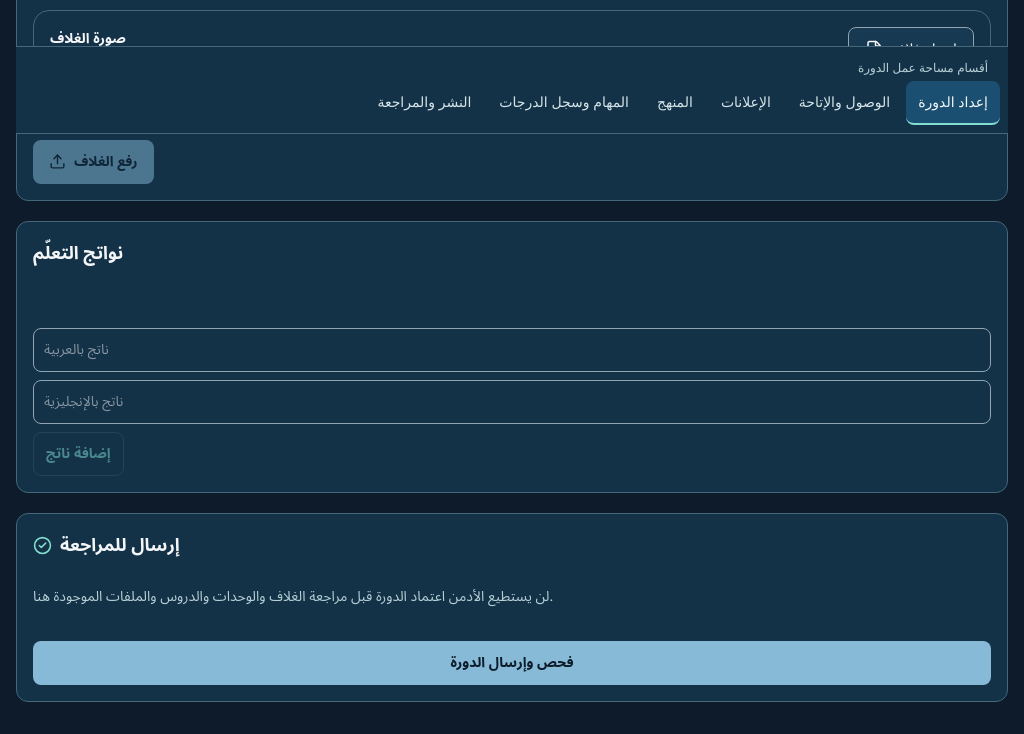
Test: teacher coursework/review ar (mocked UI contracts) › submits course bodylessly, invalidates only its existing key and localizes success
(page scrolled)
Click the button "فحص وإرسال الدورة": [512, 663] box [33,641,991,685]
(page scrolled)
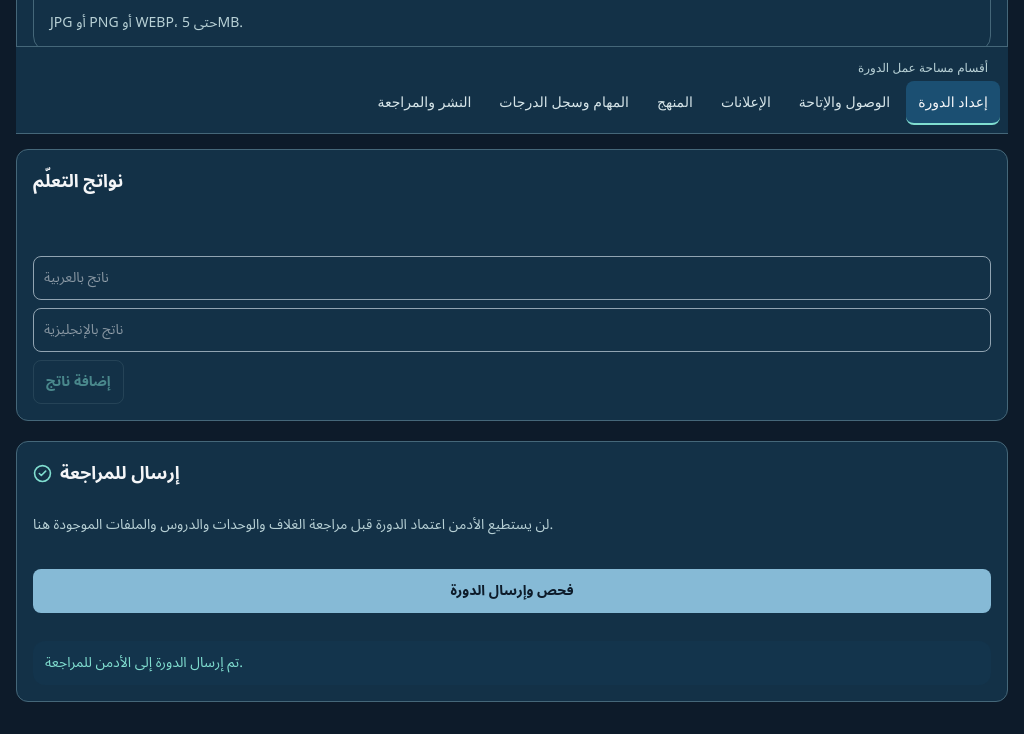
Expected: the text "تم إرسال الدورة إلى الأدمن للمراجعة." is shown, [33,641,991,685]
